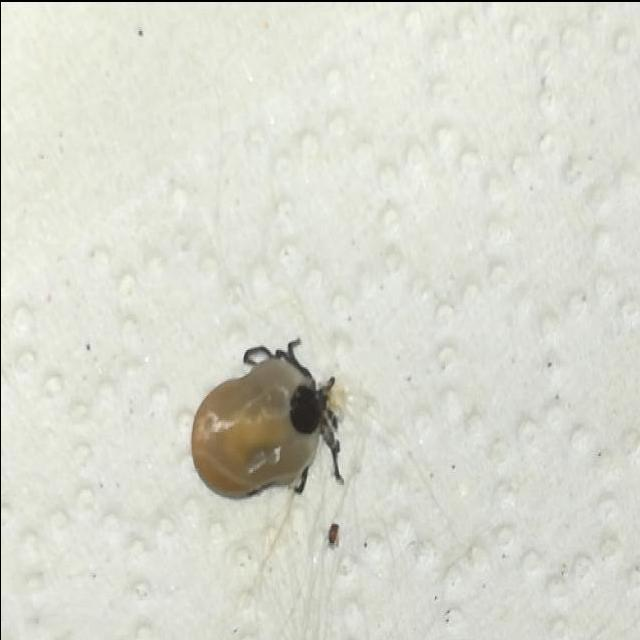Ixodes Ricinus-F-Fed: (187, 338, 343, 502)
